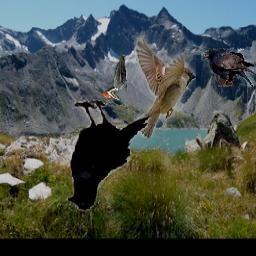Crow: (65, 99, 152, 211), (202, 48, 255, 87)
Sparrow: (134, 36, 196, 139)
Woodpecker: (103, 56, 128, 101)
